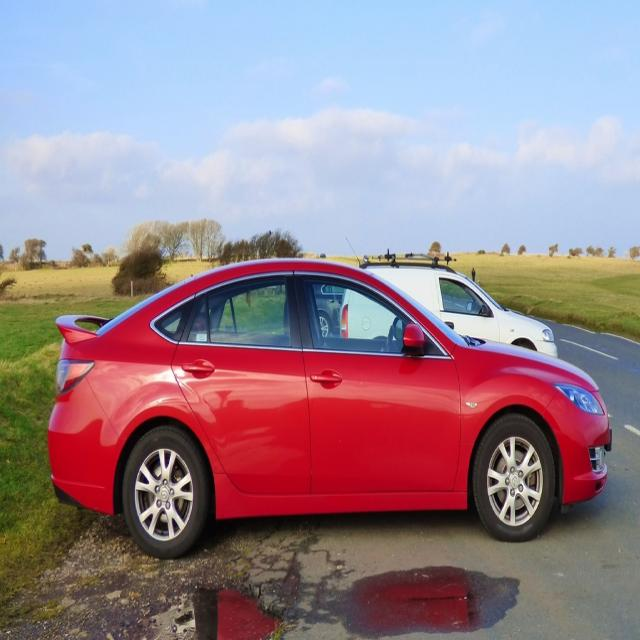car: (46, 254, 612, 560)
